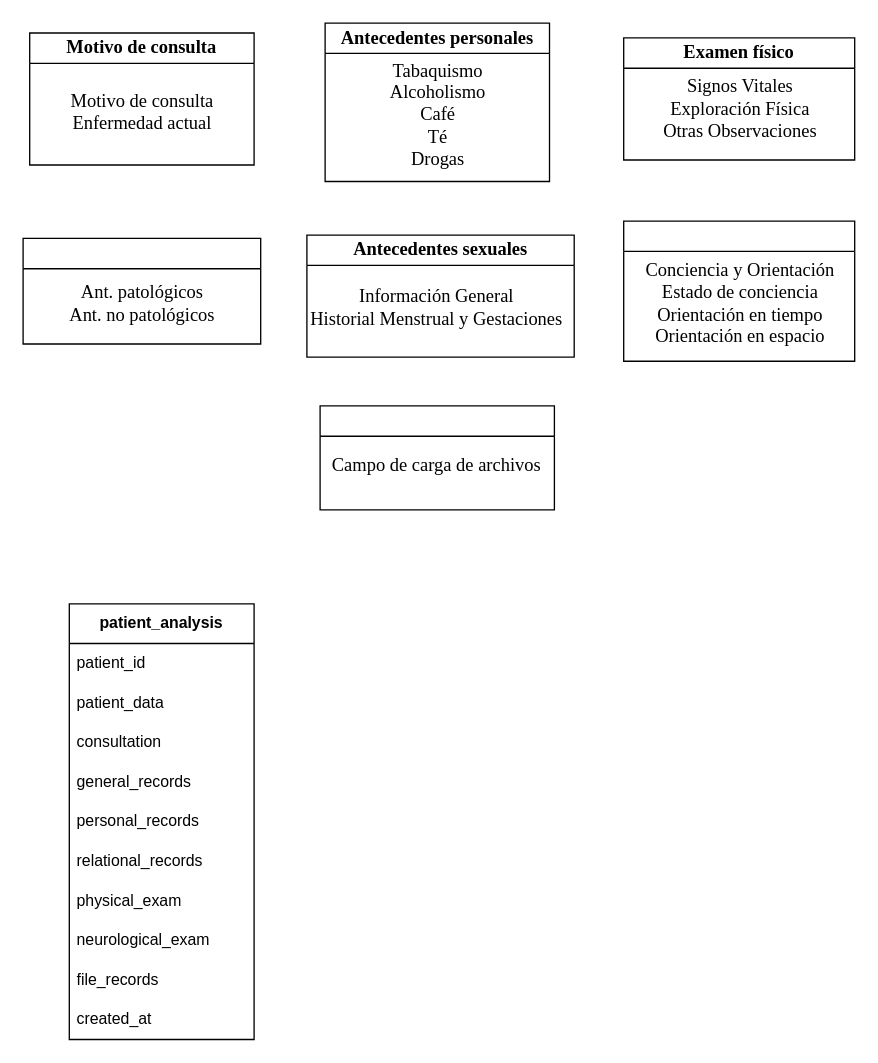
This 878x1063 diagram has some shape labels left out. The box of each missing label's shape, as (x1, y1, x2, y2) in pixels:
Antecedentes generales: (22, 237, 261, 344)
Examen neurológico: (622, 220, 855, 361)
Subida de exámenes/estudos: (319, 405, 554, 510)
